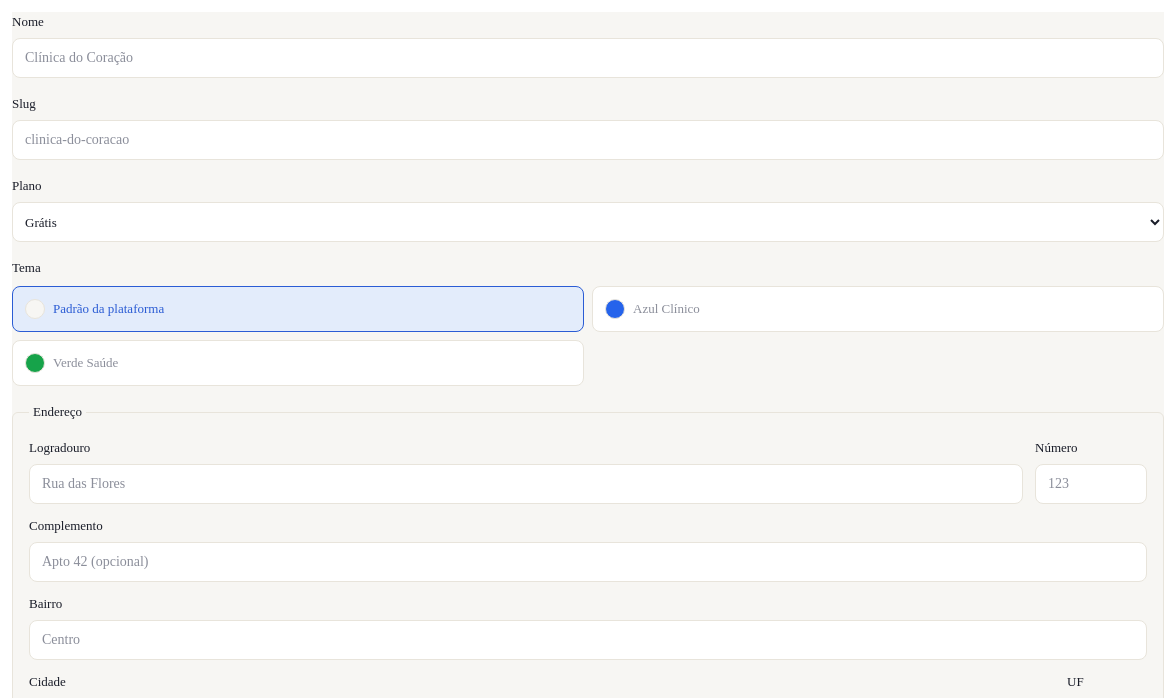
Test: ClinicForm (integration) — create mode › shows manually entered slug in preview when slug field is filled
Step 1. Type "Minha Clínica" into the field with test id "clinic-form-name" → (588,58), box [12,38,1164,78]
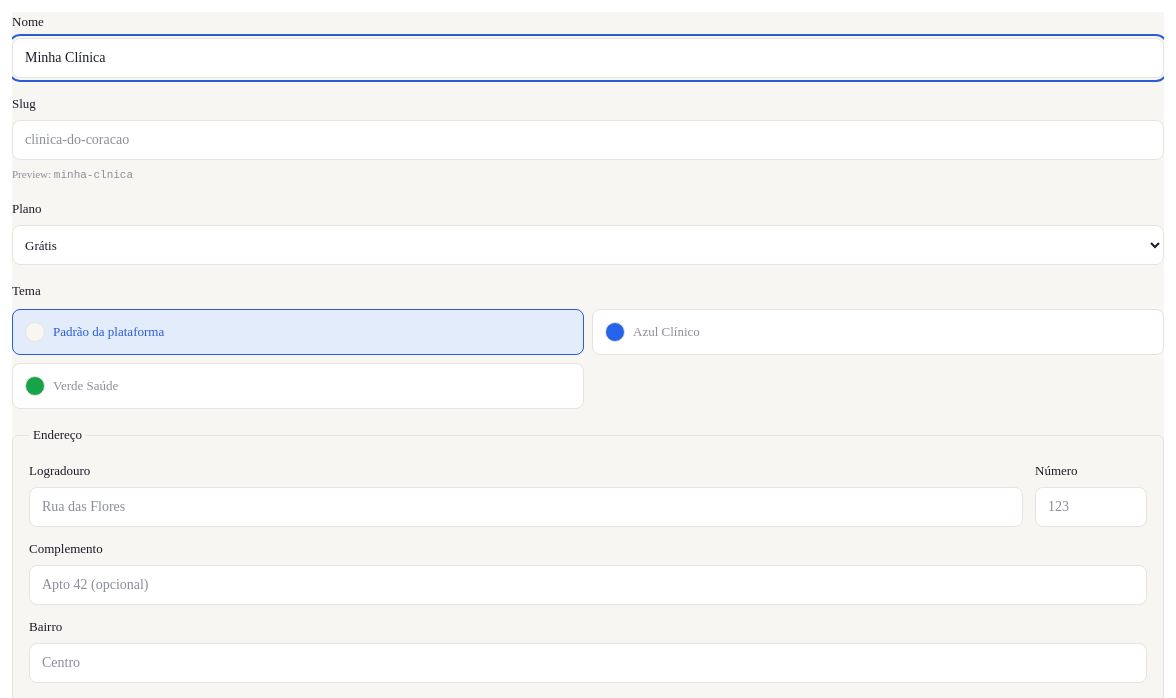
Step 2. Type "slug-manual" into the field with test id "clinic-form-slug" → (588,140), box [12,120,1164,160]
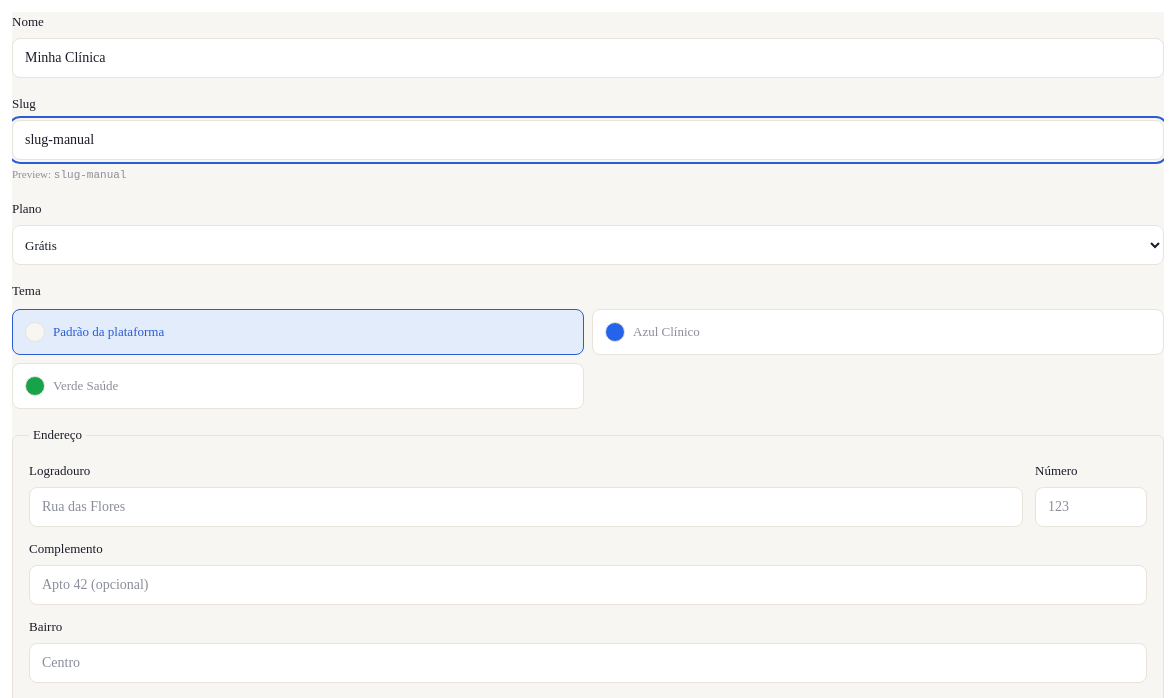
Result: the element with test id "clinic-form-slug-preview" shows "slug-manual" at [54,169,126,181]
